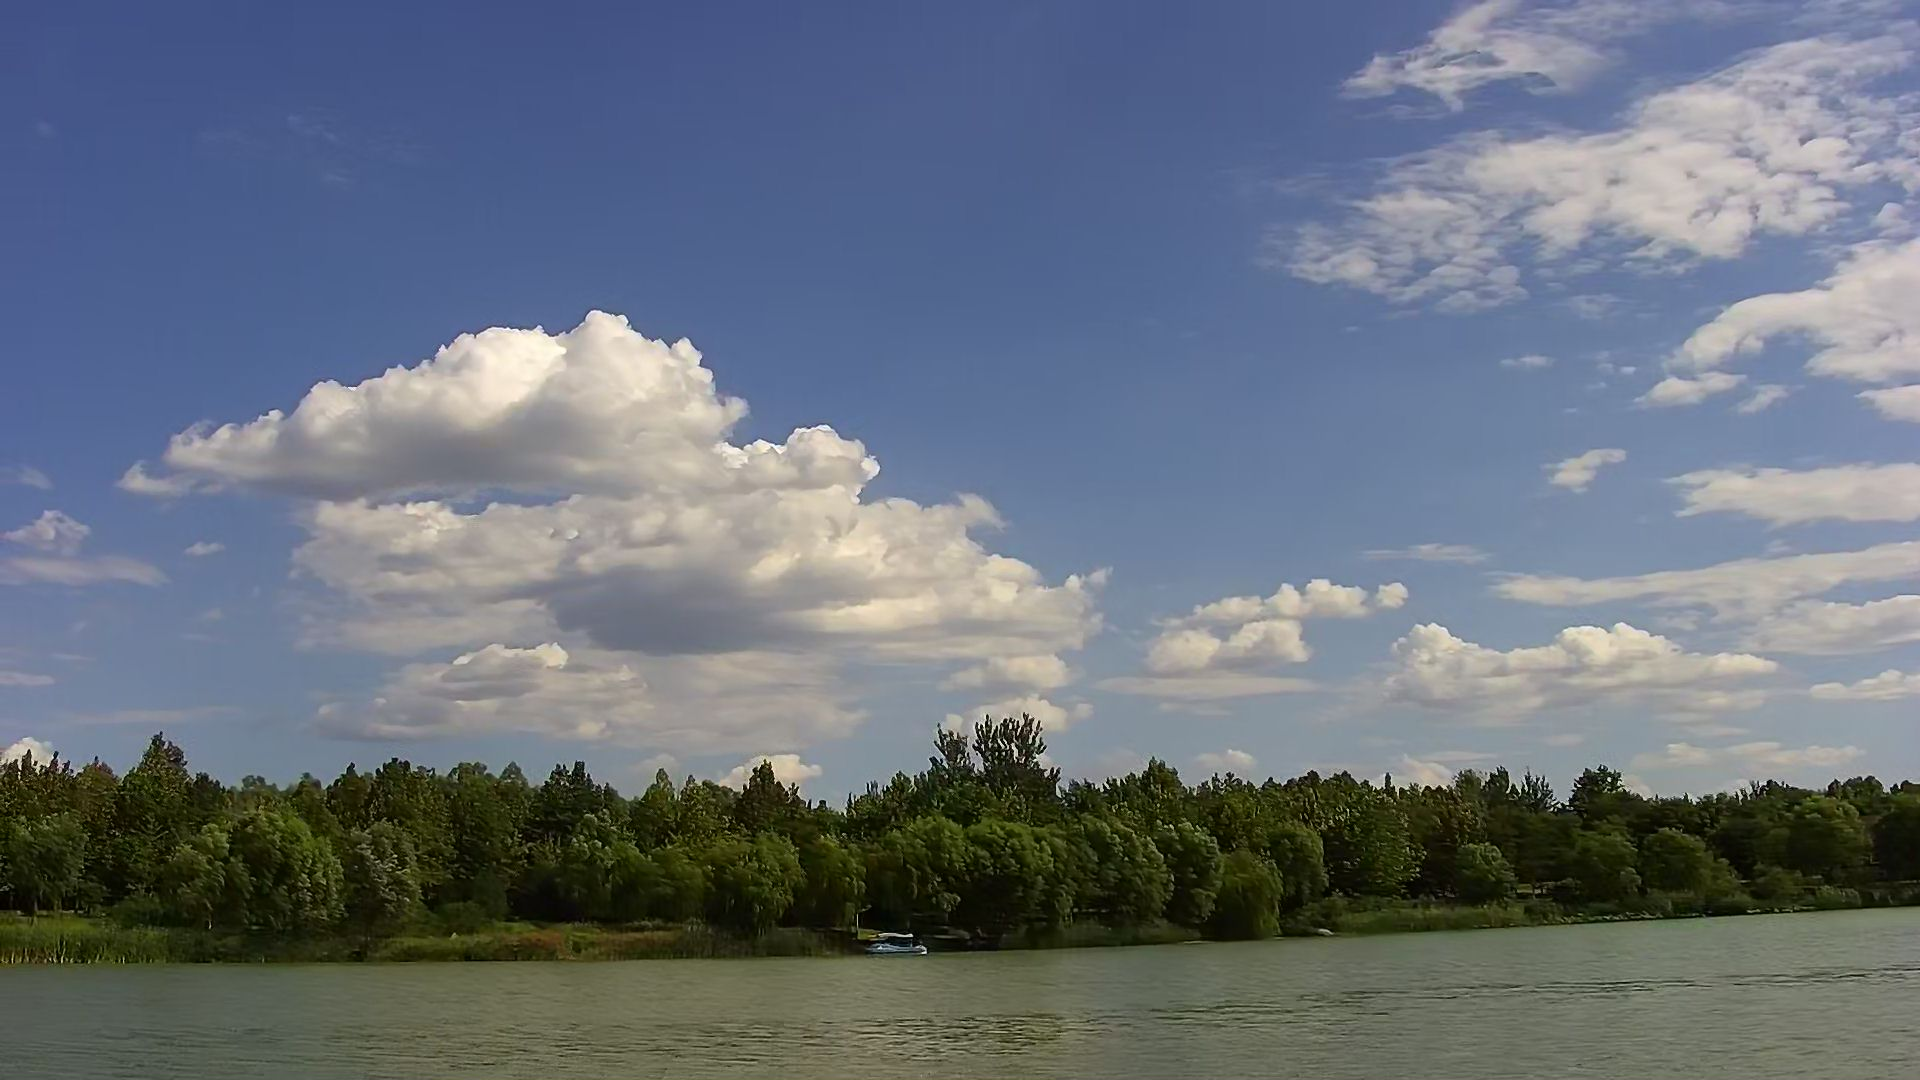boat: (862, 924, 926, 956)
